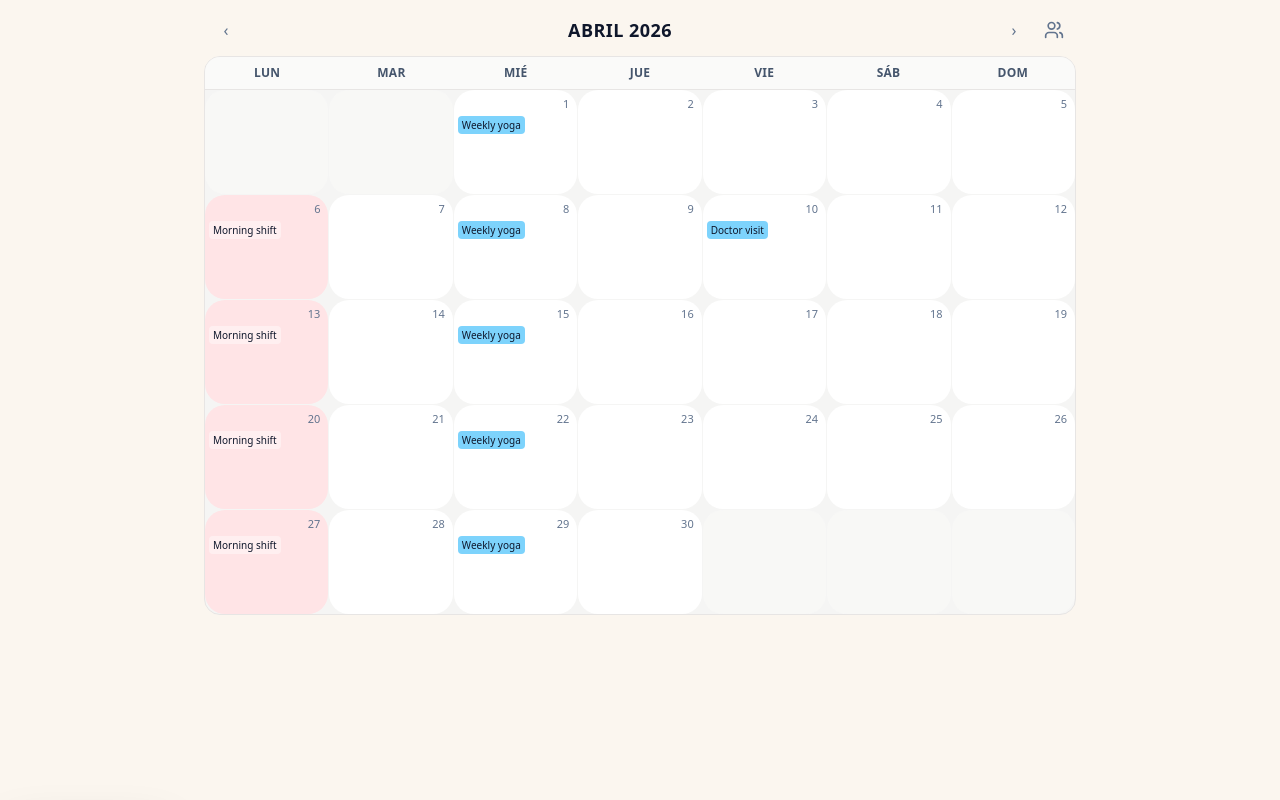
Test: CalendarGrid › closes the day detail panel when close is clicked
Step 1. Click the button "10 Doctor visit" → x=764, y=247, box [703,195,826,299]
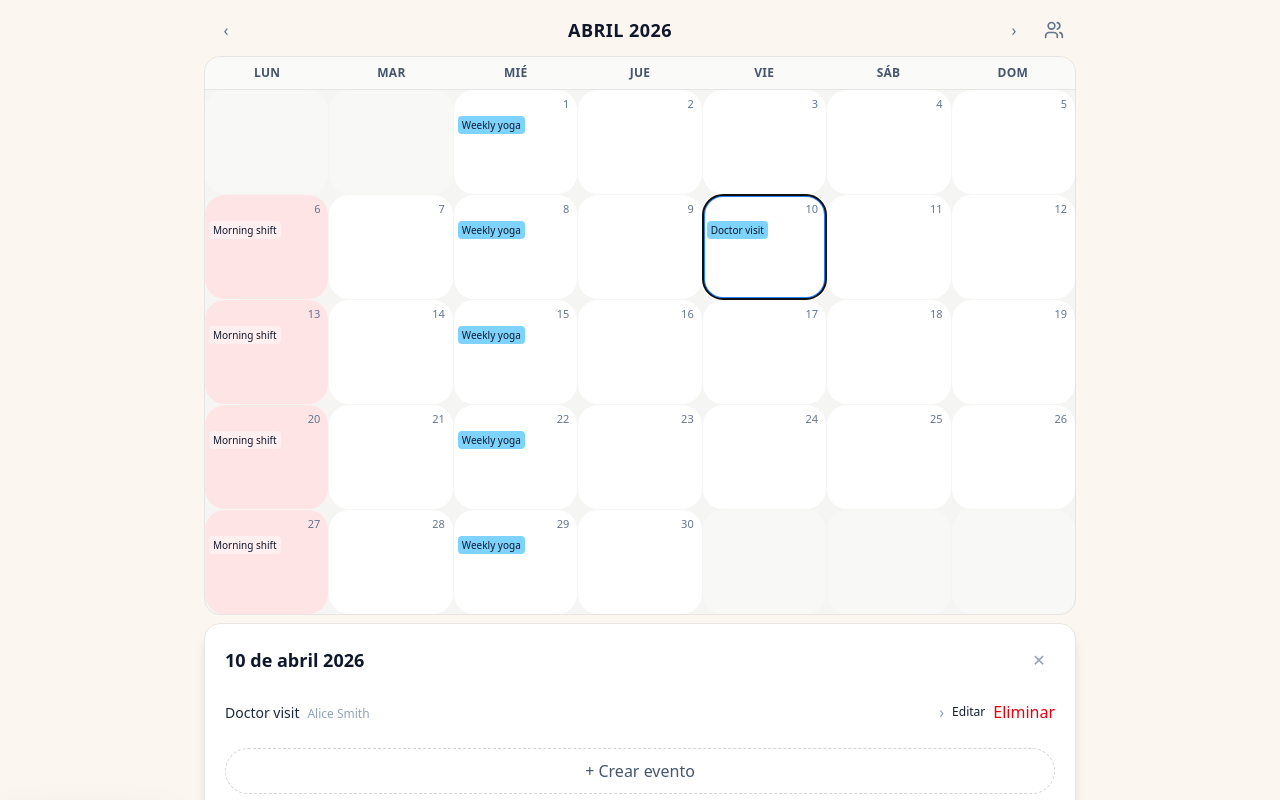
Result: the heading "10 de abril 2026" is shown at [225,646,364,674]
Step 2. Click the button named "cerrar" → x=1039, y=660, box [1023,644,1055,676]
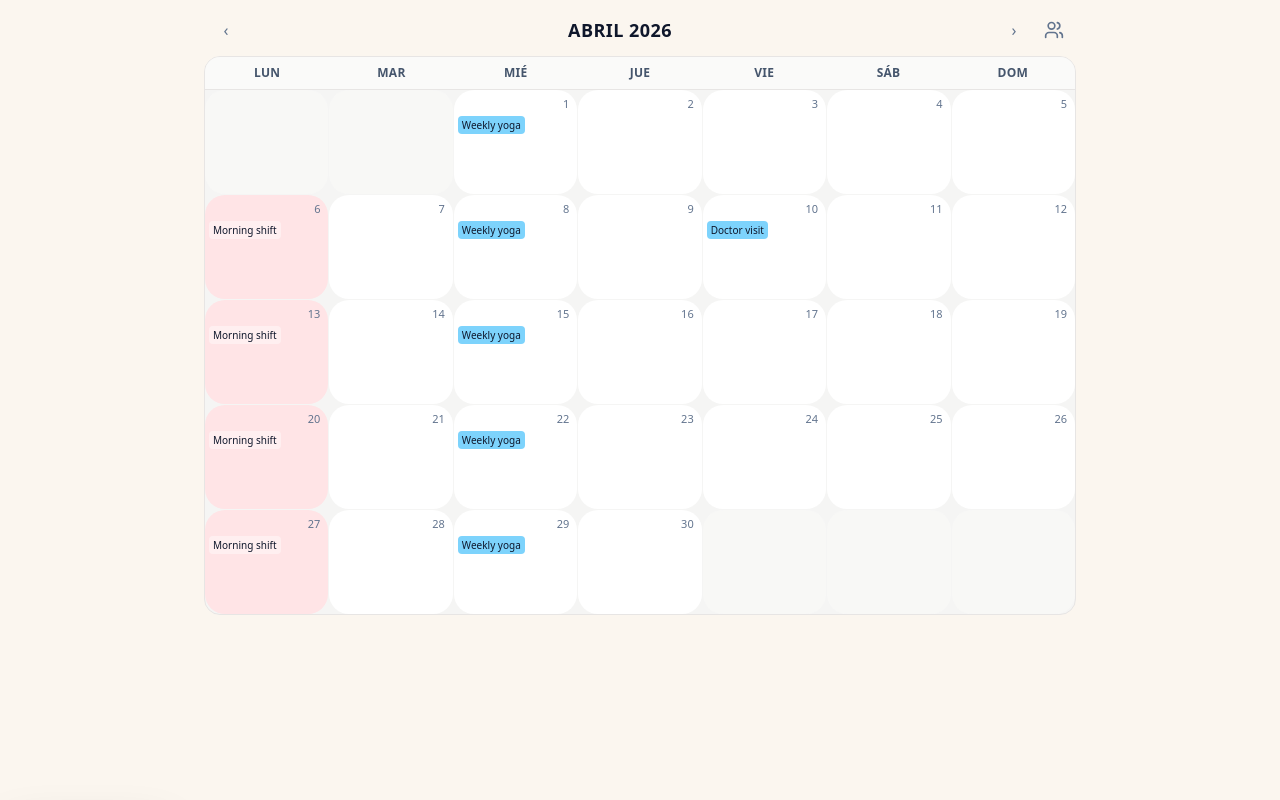
Result: the heading "10 de abril 2026" is gone
